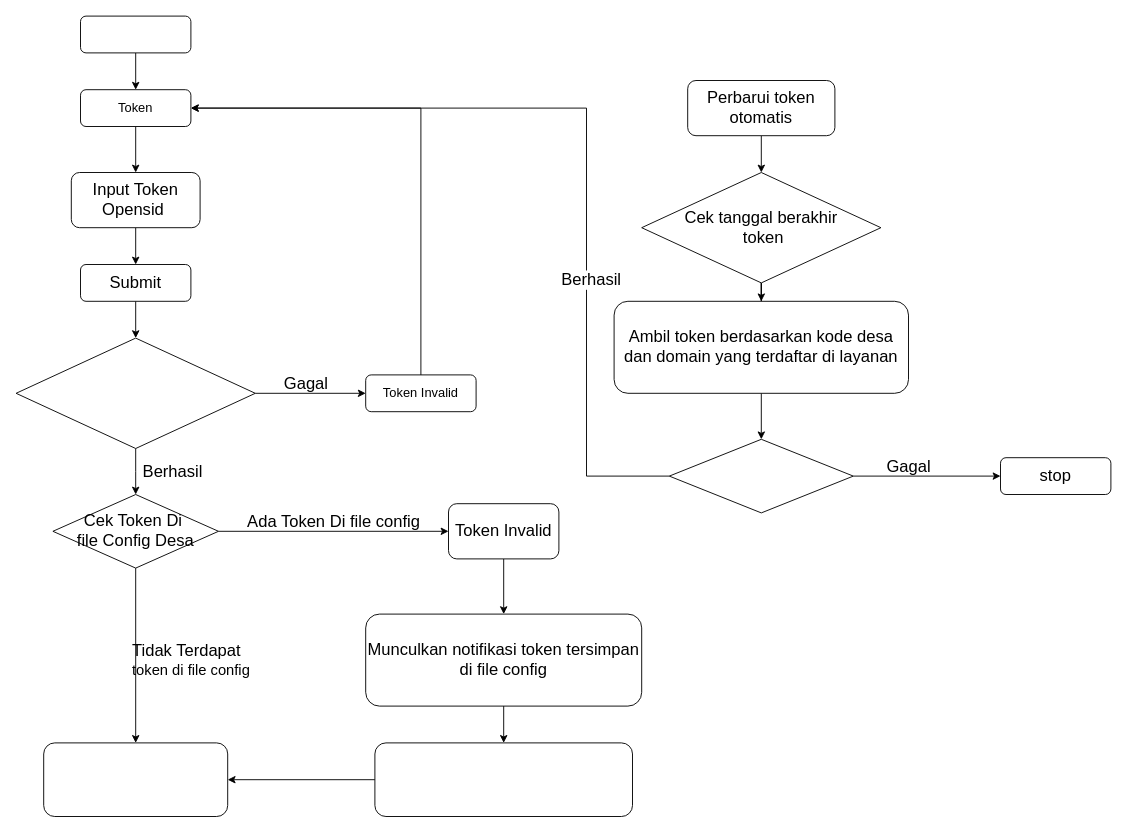
This 1127x833 diagram has some shape labels left out. Here are the shapes that lost their labels. From the top down, the box of each, then its label:
(80, 15, 191, 53): Install Baru
(15, 337, 255, 448): Verifikasi Token oleh layanan
(668, 438, 853, 513): Token Baru
(43, 742, 228, 816): Simpan token database
(374, 742, 632, 816): Ganti Token Di file Config Desa
